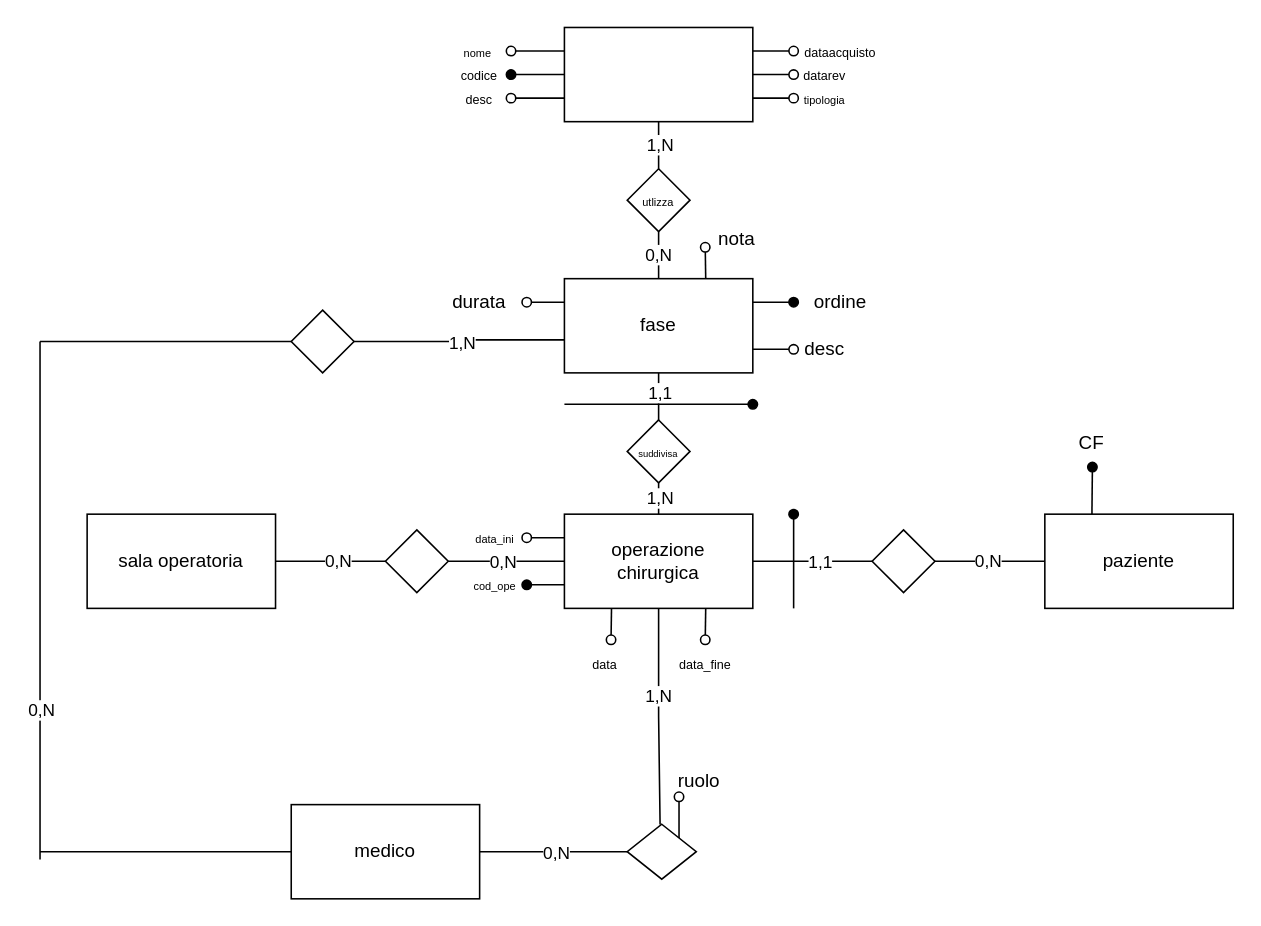
The diagram is 1261 pixels wide and 926 high, and some of its shapes have lost their labels. The centre of each missing label's shape, as x and y in pixels:
"apparechiatura" belongs at point (658, 74).
"dove" belongs at point (416, 560).
"lavora" belongs at point (661, 851).
"subisce" belongs at point (903, 560).
